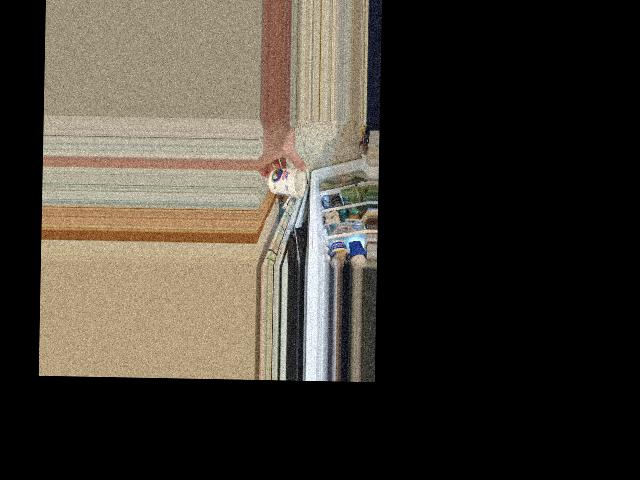cotage: (266, 164, 306, 198)
